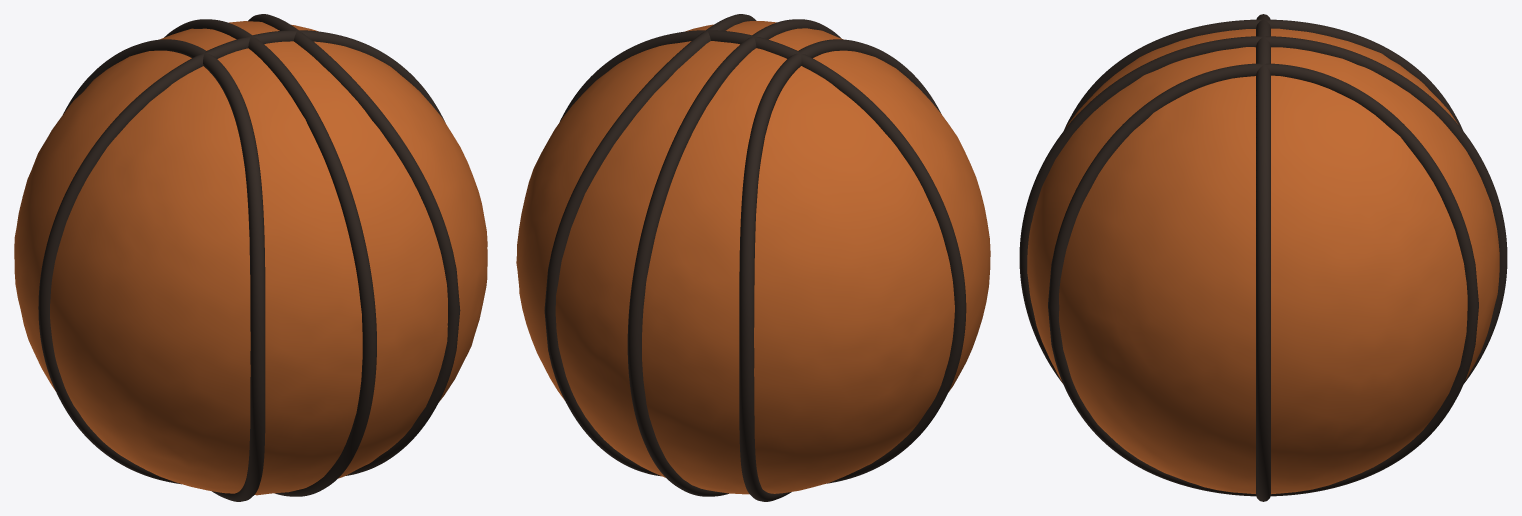
File: basketball.glb
The picture shows the model from 3 angles, left to right: view 1: azimuth 30°, elevation 25°; view 2: azimuth 150°, elevation 25°; view 3: azimuth 270°, elevation 25°; orthographic projection.
Visible parts, largest first — view 1: basketball, seam_L, seam_eq, seam_center, seam_R; view 2: basketball, seam_L, seam_eq, seam_center, seam_R; view 3: basketball, seam_R, seam_center, seam_eq, seam_L.
Boxes of the visible parts, bbox=[...] form: basketball: bbox=[14, 21, 487, 495]; seam_L: bbox=[63, 39, 265, 501]; seam_eq: bbox=[38, 30, 445, 484]; seam_center: bbox=[164, 19, 376, 496]; seam_R: bbox=[248, 14, 460, 475]; basketball: bbox=[516, 21, 990, 494]; seam_L: bbox=[739, 39, 941, 501]; seam_eq: bbox=[560, 30, 966, 483]; seam_center: bbox=[627, 19, 841, 496]; seam_R: bbox=[544, 14, 756, 476]; basketball: bbox=[1027, 28, 1499, 494]; seam_R: bbox=[1048, 63, 1478, 496]; seam_center: bbox=[1019, 36, 1507, 383]; seam_eq: bbox=[1256, 14, 1270, 501]; seam_L: bbox=[1064, 19, 1462, 130].
Bounding box in the file's own units: 2.06 × 2.06 × 2.06.
